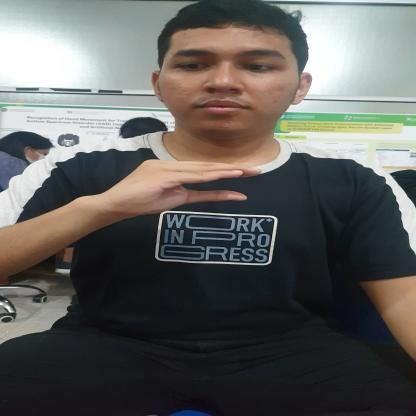Pagi: (88, 158, 262, 216)
